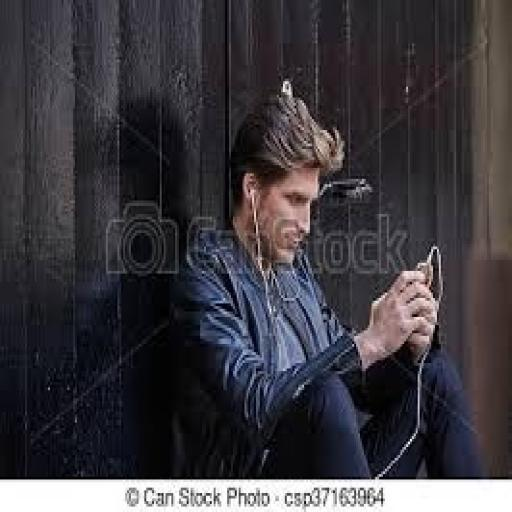listening_to_music: (177, 84, 483, 479)
